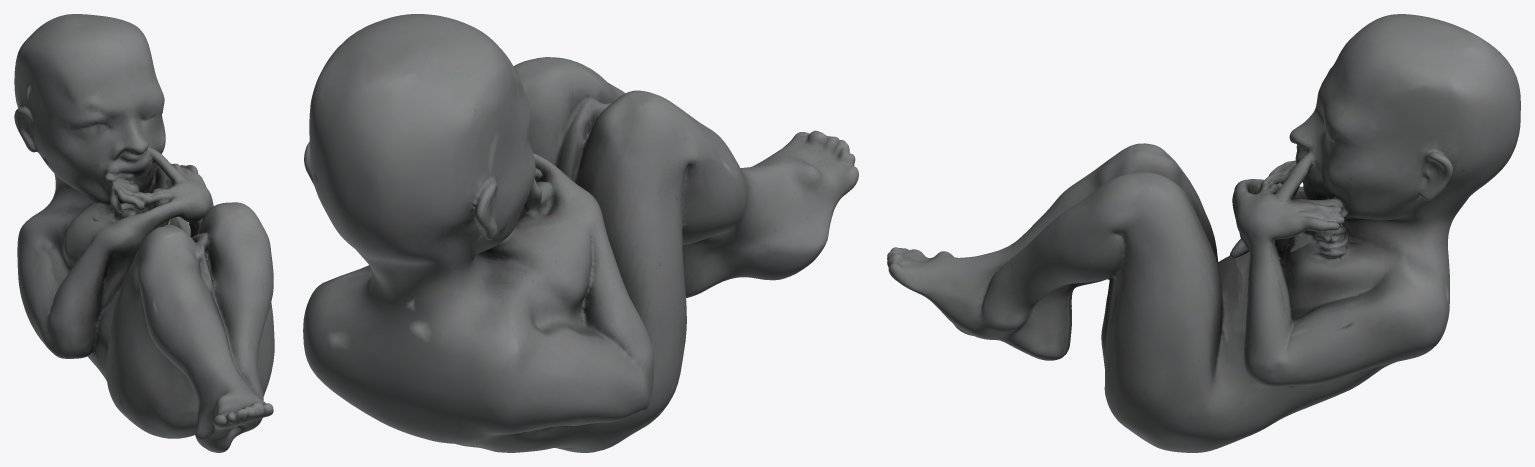
Rendered from hayko-infant.glb.
The picture shows the model from 3 angles, left to right: view 1: azimuth 30°, elevation 25°; view 2: azimuth 150°, elevation 25°; view 3: azimuth 270°, elevation 25°; orthographic projection. The views are drawn at different scales.
Size of the model in its own units: 0.8227 by 1.43 by 2.
1 material, 1 textured.
